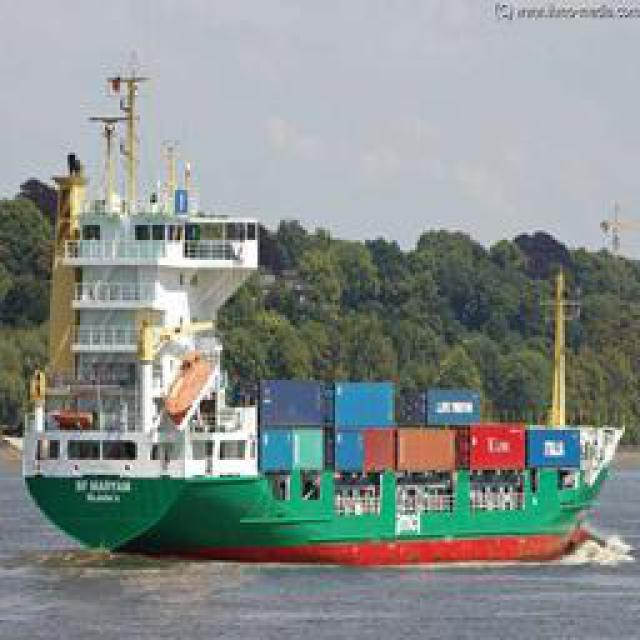Ship: (24, 291, 629, 566)
